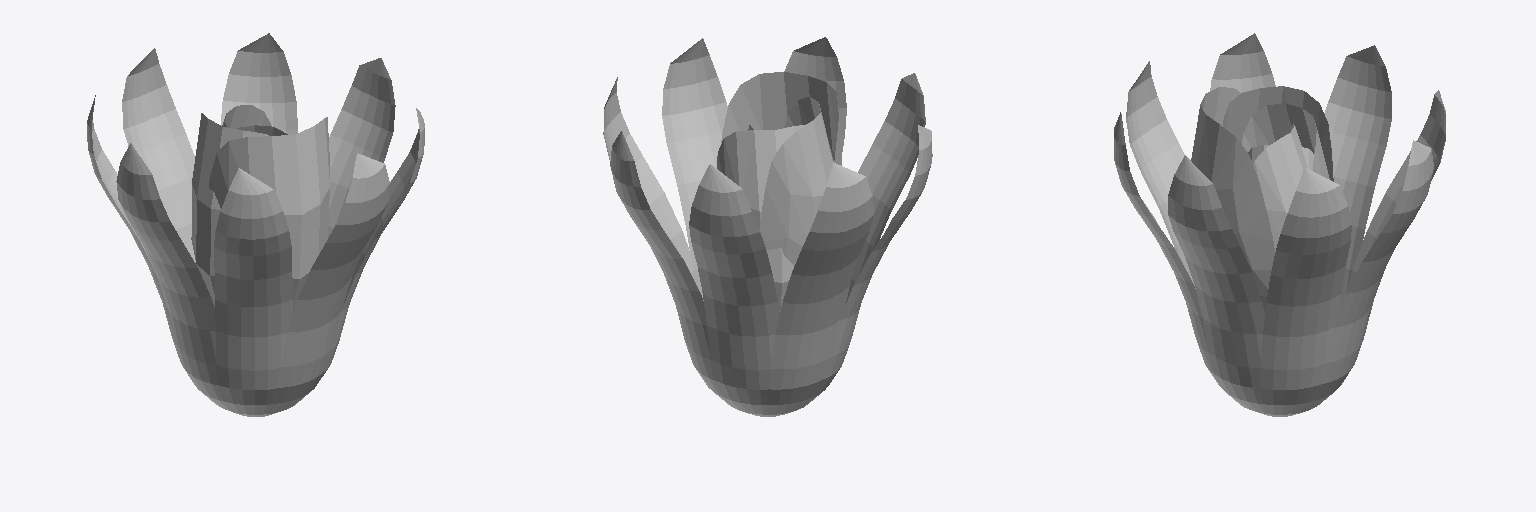
The model's file is FlowerTopModel_03_seq_0020.obj.
3 renders of one model, left to right at view 1: azimuth 30°, elevation 25°; view 2: azimuth 150°, elevation 25°; view 3: azimuth 270°, elevation 25°, orthographic.
Parts seen in each view (by area): view 1: FlowerTopModel_03; view 2: FlowerTopModel_03; view 3: FlowerTopModel_03.
Boxes of the visible parts, <box> form: FlowerTopModel_03: <box>87,33,424,416</box>; FlowerTopModel_03: <box>603,37,932,416</box>; FlowerTopModel_03: <box>1114,33,1445,416</box>.
Size of the model in its own units: 349 by 361 by 349.